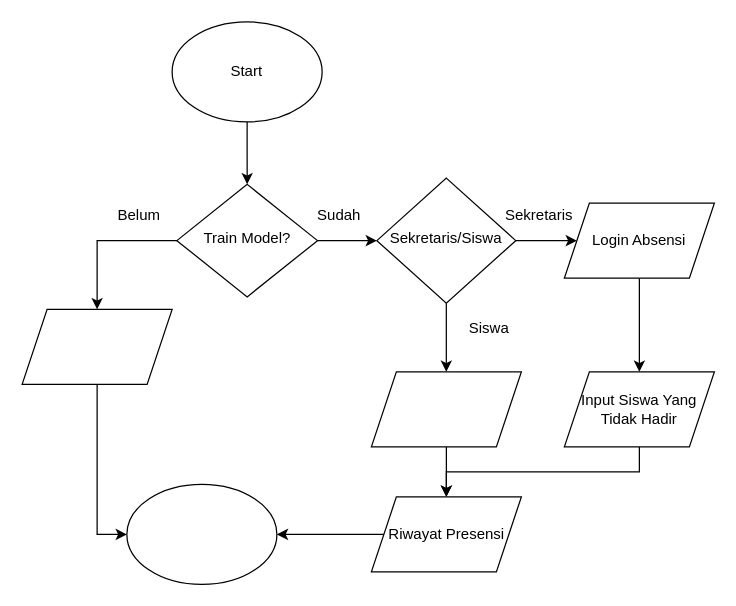
This 736x606 diagram has some shape labels left out. Here are the shapes that lost their labels. From the top down, the box of each, then its label:
(21, 308, 172, 384): Daftar Train Model/Wajah
(370, 371, 521, 447): Deteksi Wajah
(126, 483, 277, 584): End
